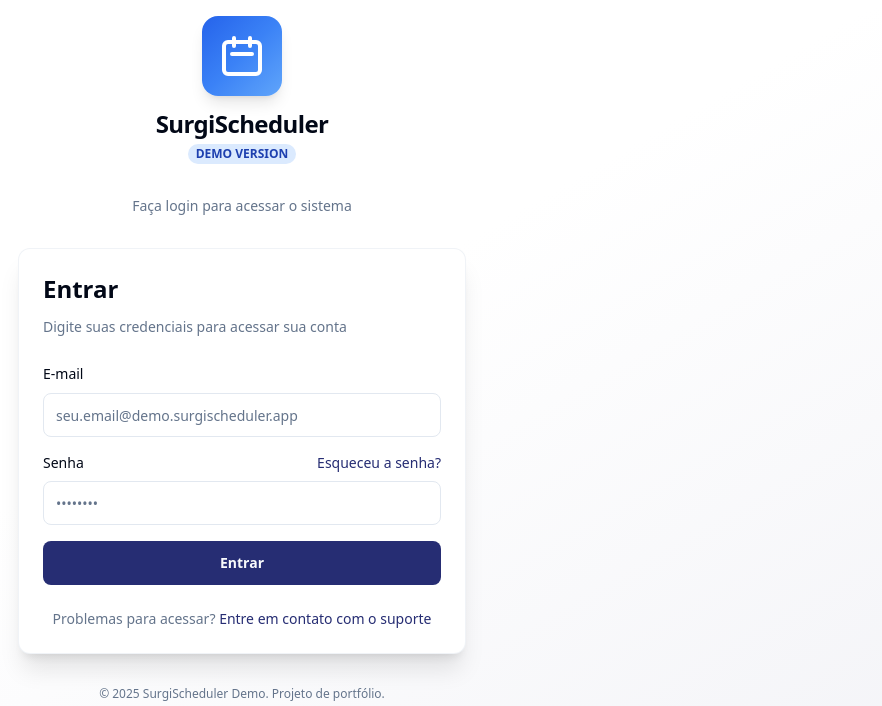
Test: LoginPage Component › should disable submit button during loading
Type "test@example.com" into the field labelled "E-mail" at (242, 415), box left=43, top=393, right=441, bottom=437
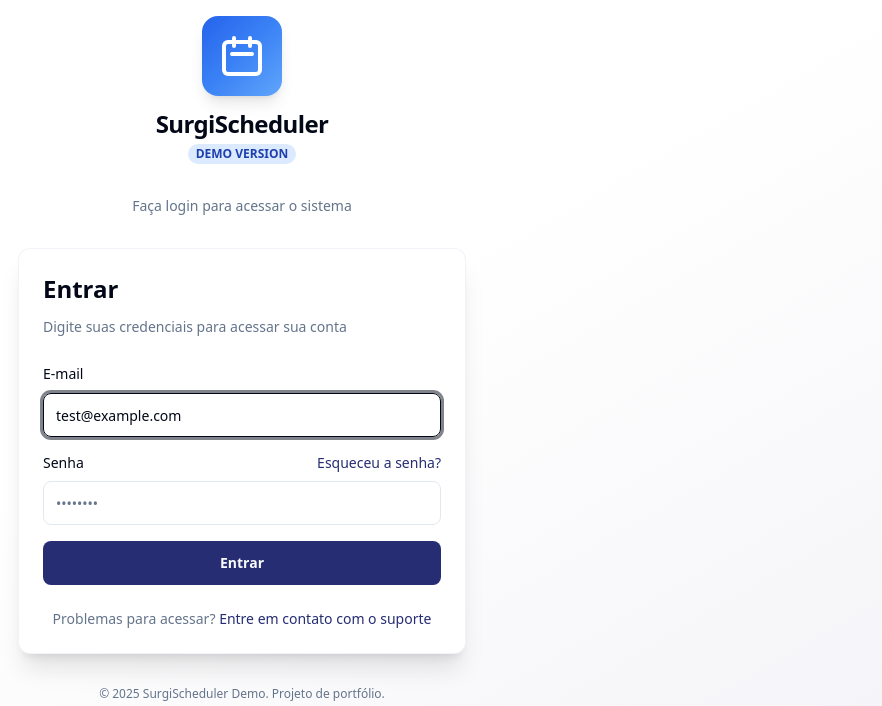
Type "password123" into the password field labelled "Senha" at (242, 503), box left=43, top=481, right=441, bottom=525
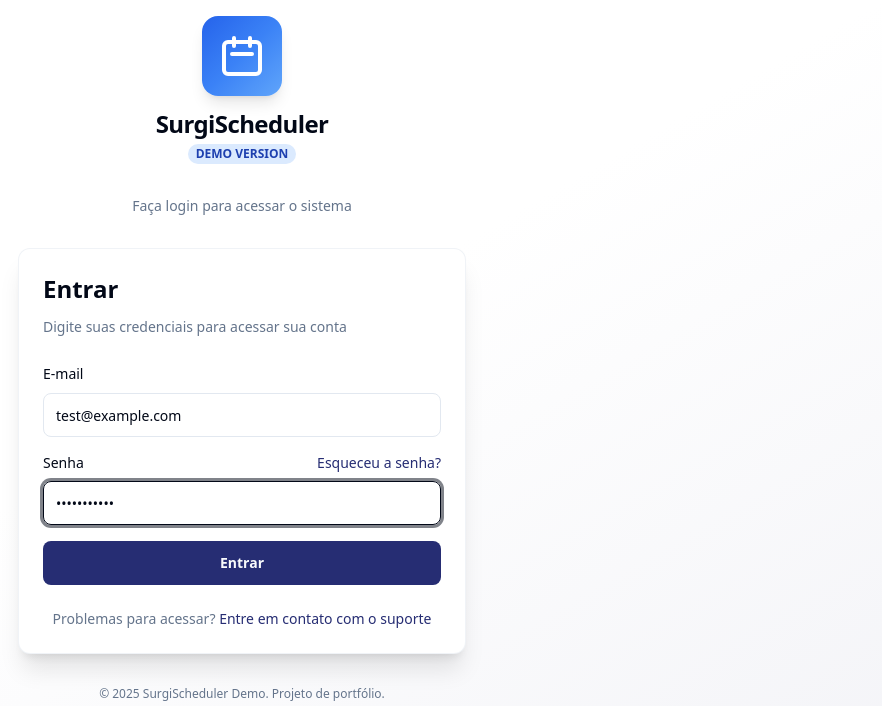
Click the button "Entrar" at (242, 563), box left=43, top=541, right=441, bottom=585
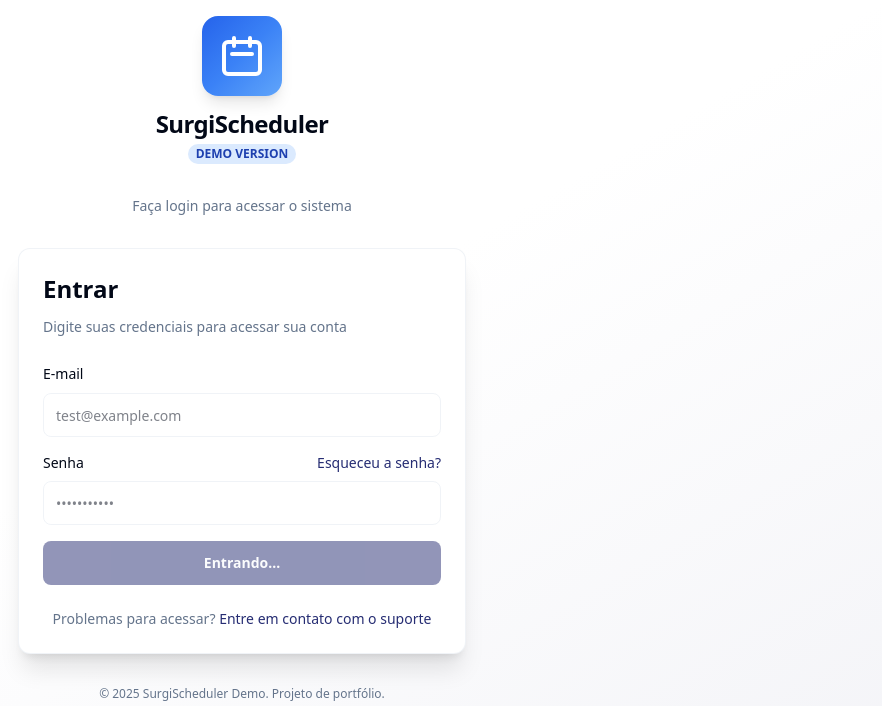
Now the button named "entrar" is disabled, box left=43, top=541, right=441, bottom=585
Now the button named "entrar" reads "Entrando...", box left=43, top=541, right=441, bottom=585
